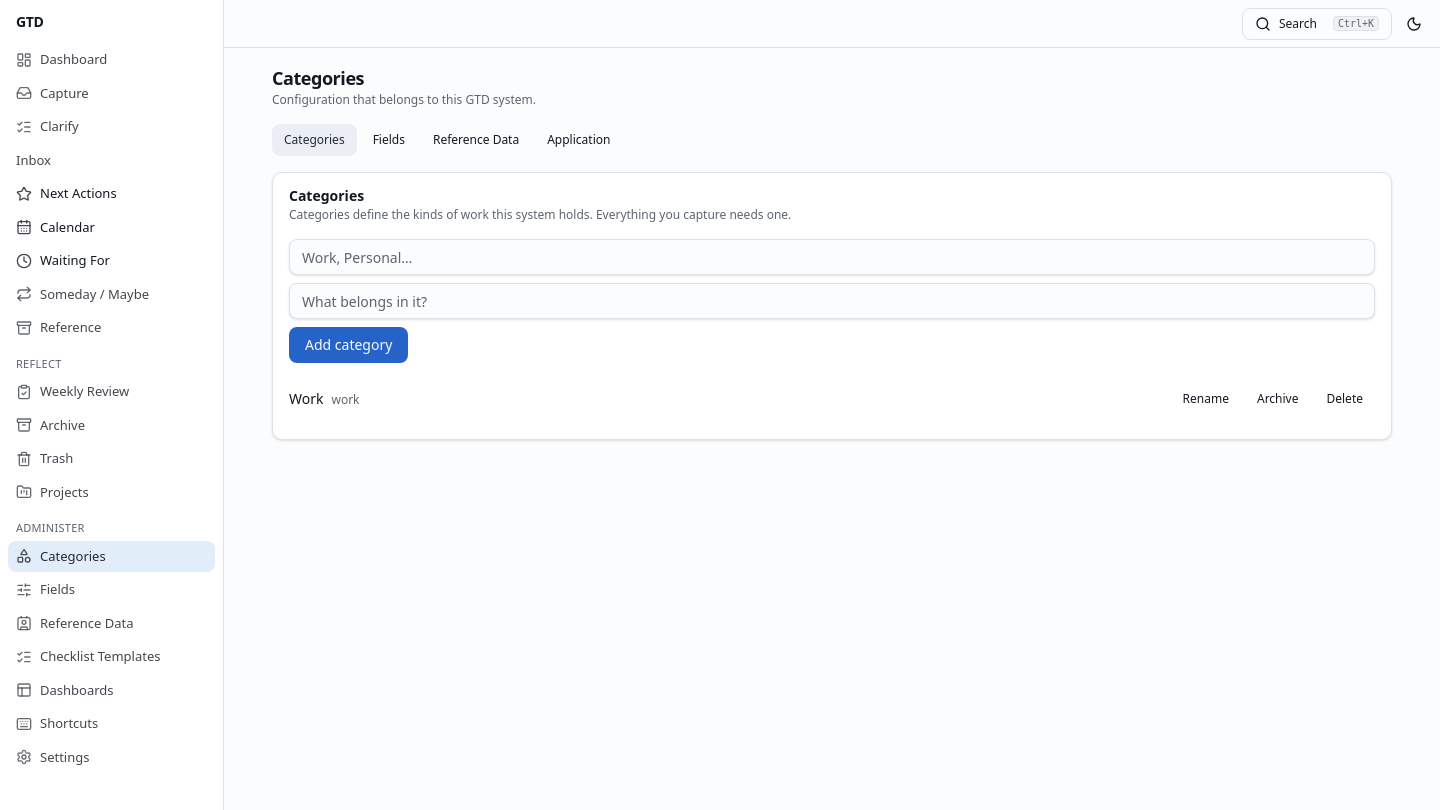
Scenario: categories › will not submit an unnamed category
This screenshot has width=1440, height=810.
Step 1. Click the button "Add category" → x=349, y=345, box [289,327,408,363]
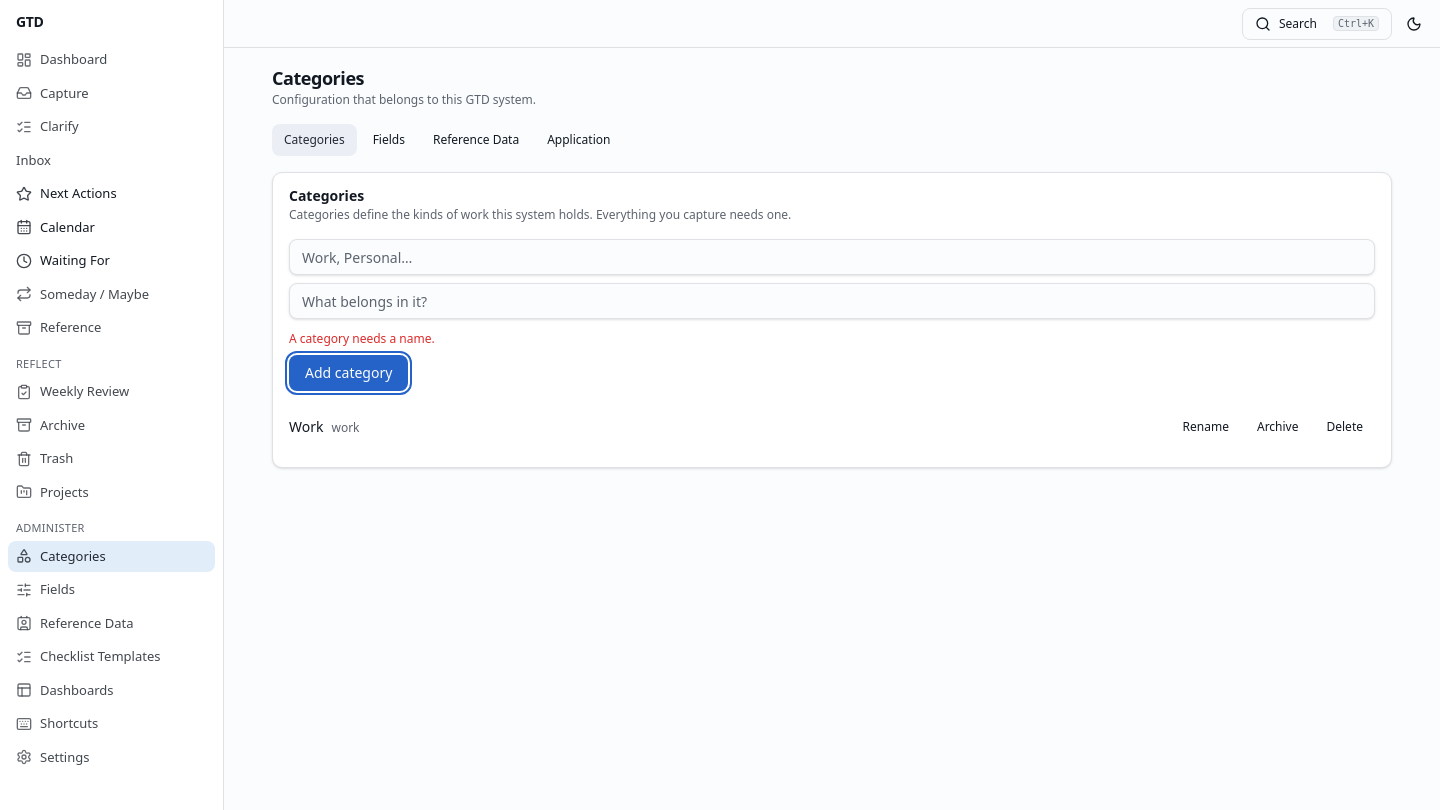
Now the text "A category needs a name." is shown, box [289,330,435,347]
